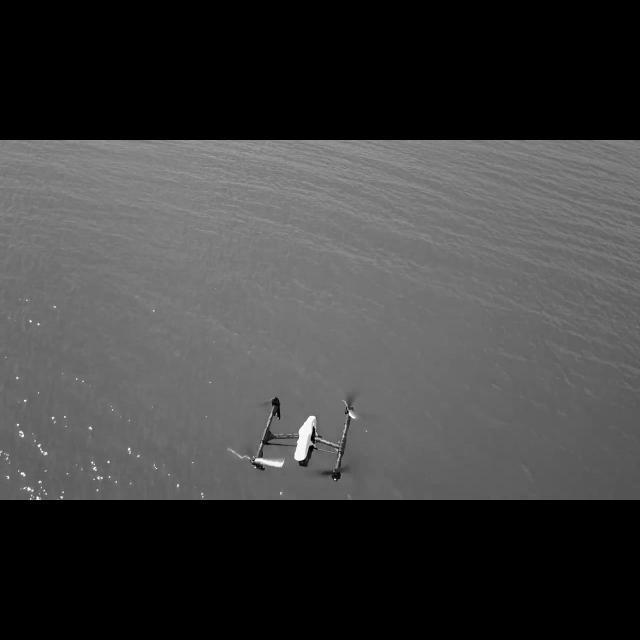Drons: (248, 393, 358, 483)
